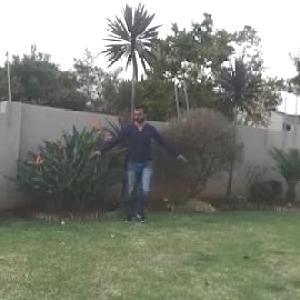land: (86, 98, 192, 233)
